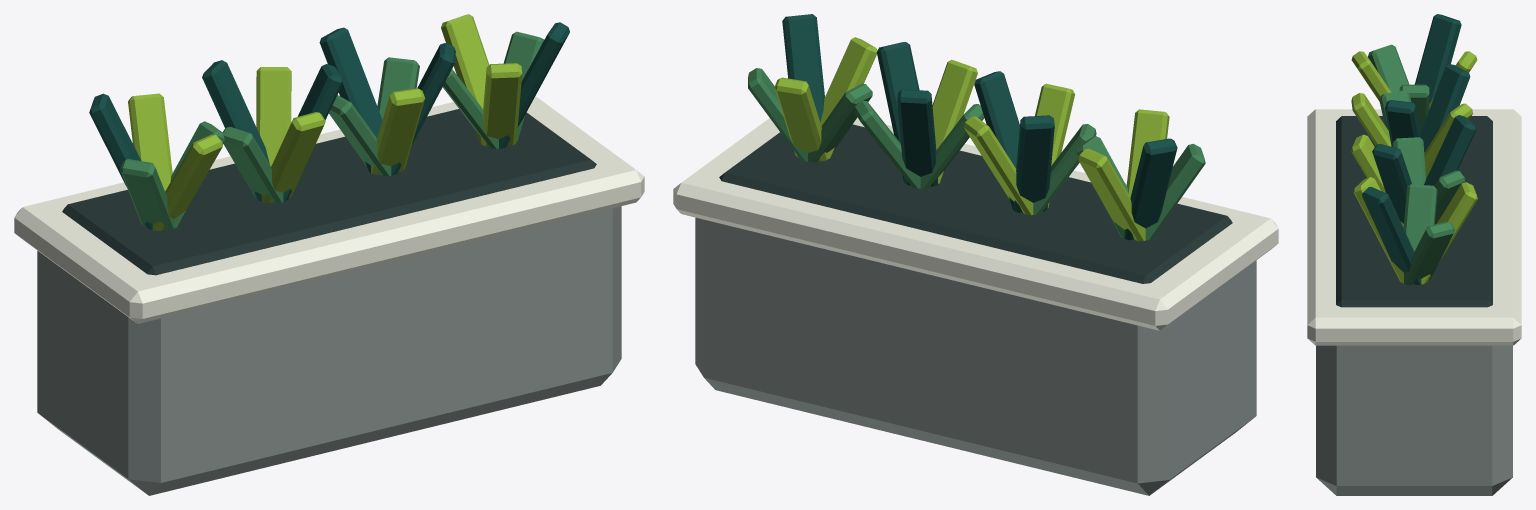
File: planter.glb
The picture shows the model from 3 angles, left to right: view 1: azimuth 30°, elevation 25°; view 2: azimuth 150°, elevation 25°; view 3: azimuth 270°, elevation 25°; orthographic projection. The views are drawn at different scales.
Parts seen in each view (by area): view 1: Vaso retangular, Borda, Substrato, Folha.002, Folha.003, Folha.001; view 2: Vaso retangular, Borda, Substrato, Folha.003, Folha.002, Folha.001; view 3: Vaso retangular, Borda, Substrato, Folha.003, Folha.001, Folha.002.
Boxes of the visible parts, x1=… form: Vaso retangular: x1=37, y1=206, x2=621, y2=495; Borda: x1=14, y1=96, x2=644, y2=323; Substrato: x1=62, y1=109, x2=596, y2=275; Folha.002: x1=128, y1=14, x2=522, y2=230; Folha.003: x1=89, y1=22, x2=569, y2=229; Folha.001: x1=120, y1=31, x2=543, y2=230; Vaso retangular: x1=695, y1=217, x2=1256, y2=495; Borda: x1=673, y1=117, x2=1278, y2=330; Substrato: x1=719, y1=124, x2=1232, y2=283; Folha.003: x1=782, y1=14, x2=1177, y2=240; Folha.002: x1=774, y1=37, x2=1169, y2=241; Folha.001: x1=748, y1=68, x2=1205, y2=240; Vaso retangular: x1=1316, y1=345, x2=1512, y2=495; Borda: x1=1307, y1=109, x2=1521, y2=345; Substrato: x1=1336, y1=116, x2=1492, y2=307; Folha.003: x1=1362, y1=14, x2=1476, y2=284; Folha.001: x1=1368, y1=44, x2=1465, y2=284; Folha.002: x1=1351, y1=51, x2=1477, y2=284.
Bounding box in the file's own units: 1.19 × 0.7642 × 0.5.
